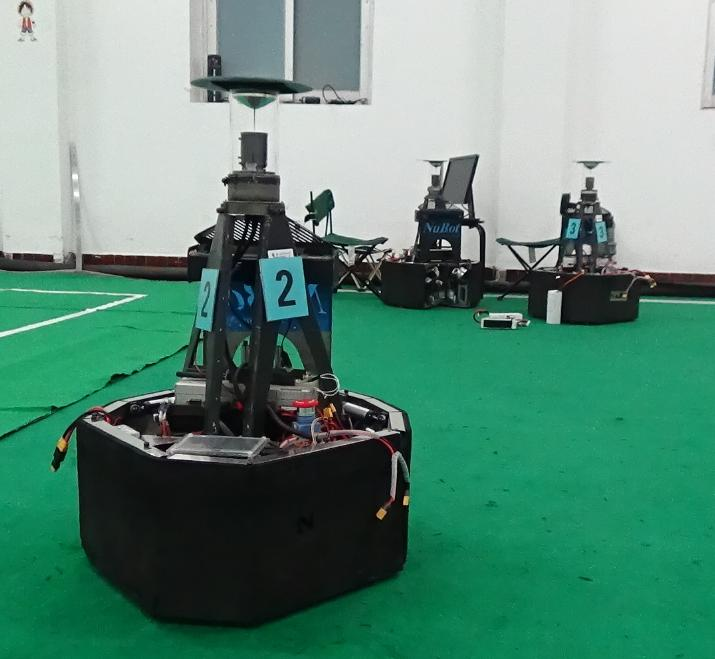robot: (66, 70, 419, 639), (526, 155, 643, 329), (379, 153, 483, 320)
